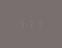eight: (35, 20, 42, 28)
nine: (18, 20, 25, 28)
three: (27, 20, 34, 28)
